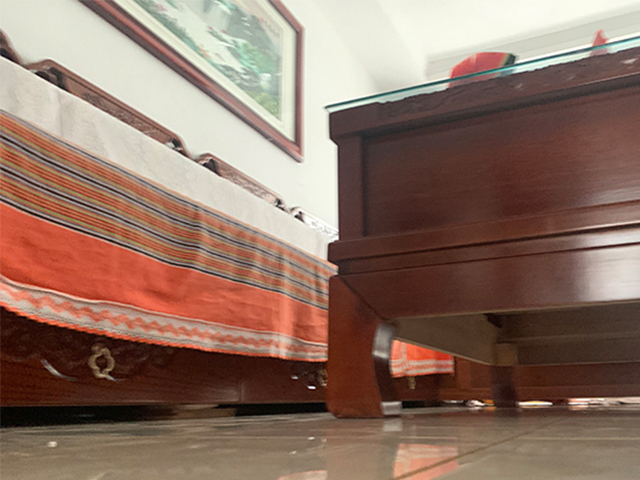sofa: (1, 27, 337, 410)
table: (322, 35, 640, 421)
